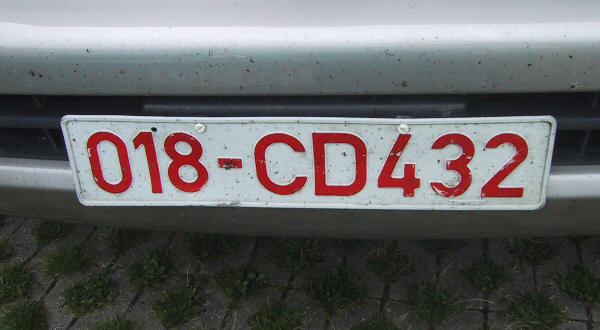license_plate: (59, 114, 556, 212)
